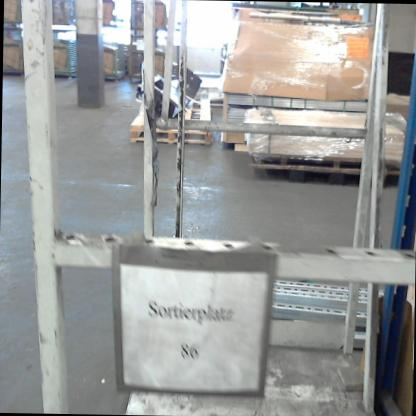pallet: (239, 114, 416, 185), (127, 93, 217, 153)
stillage: (125, 43, 162, 83), (50, 35, 81, 82), (5, 34, 31, 81), (99, 44, 126, 82)
